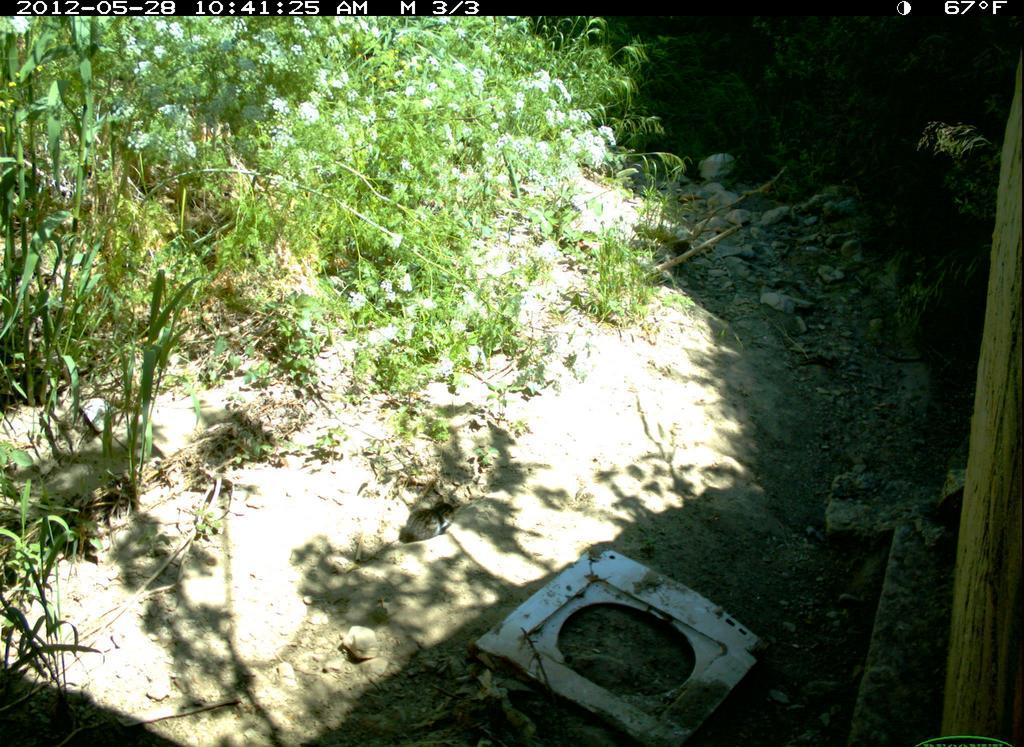cat: (401, 489, 466, 546)
